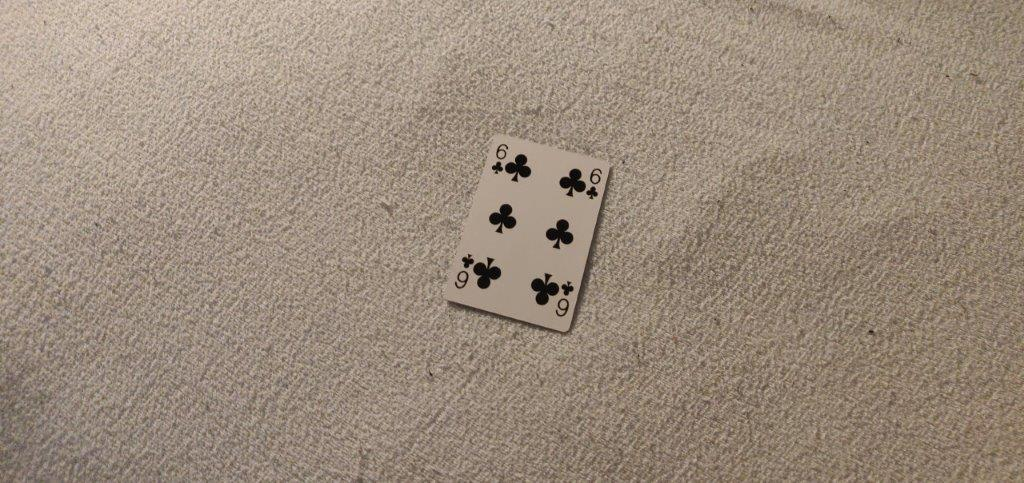6C: (488, 139, 510, 176), (585, 164, 603, 203)
